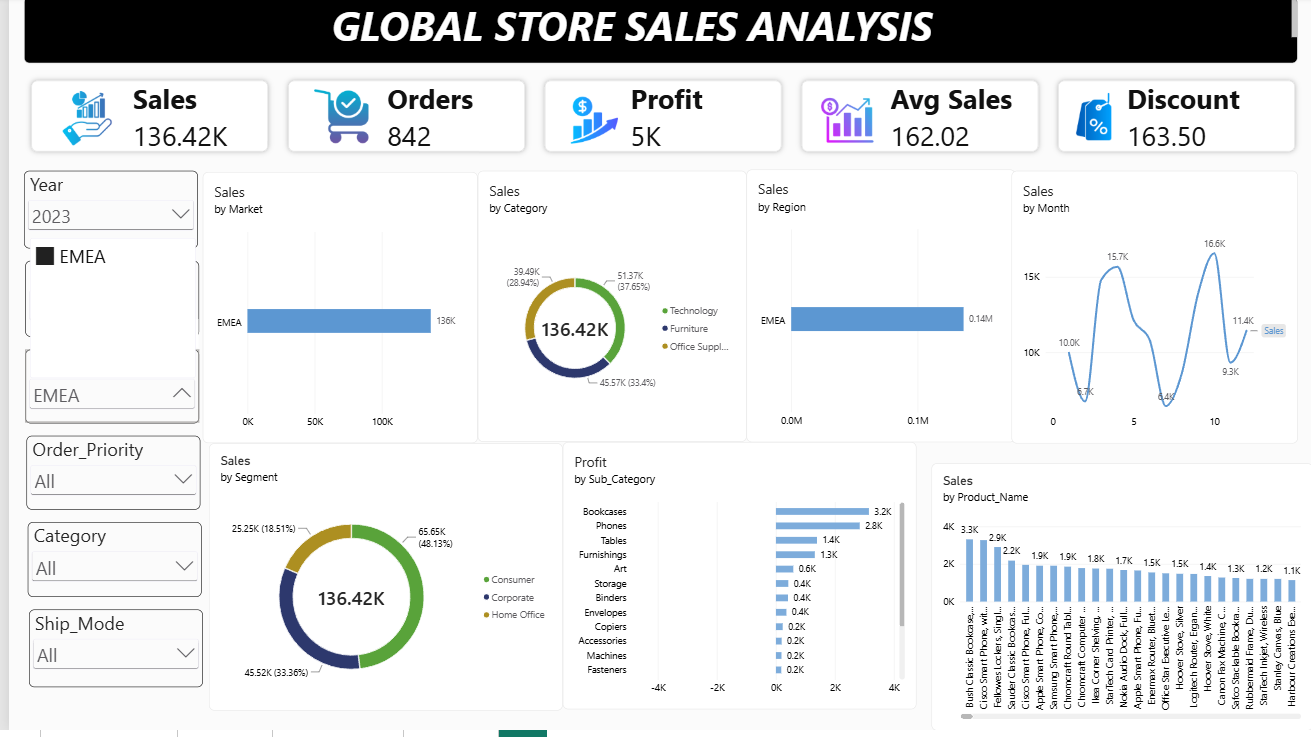

Layout of this report page (visuals, bound fields, positions):
{"tool":"powerbi","page":{"name":"Page 1","canvas":[1920,1080],"ordinal":4},"visuals":[{"type":"textbox","box":[22.1,0,1875.5,97.5],"z":0},{"type":"slicer","fields":{"Values":["calender.month end date.Variation.Date Hierarchy.Year"]},"box":[22.1,255.8,255.8,114.1],"z":5000},{"type":"slicer","fields":{"Values":["gss_cci.Market"]},"box":[23.9,388.3,255.8,112.3],"z":6000},{"type":"slicer","fields":{"Values":["Orders.Ship_Mode"]},"box":[29.4,901.8,255.8,114.1],"z":7000},{"type":"slicer","fields":{"Values":["gss_cci.Category"]},"box":[27.6,773,255.8,110.4],"z":8000},{"type":"slicer","fields":{"Values":["gss_cci.Order_Priority"]},"box":[25.8,646,255.8,108.6],"z":9000},{"type":"slicer","fields":{"Values":["gss_cci.Region"]},"box":[23.9,519,255.8,108.6],"z":10000},{"type":"cardVisual","fields":{"Data":["MEASURE#.TOTAL SALES","MEASURE#.TOTAL ORDERS","MEASURE#.TOTAL PROFIT","MEASURE#.AVERAGE SALES","MEASURE#.TOTAL DISCOUNT"]},"box":[22.1,112.3,1886.5,127],"z":11000},{"type":"clusteredBarChart","fields":{"Category":["gss_cci.Market"],"Y":["MEASURE#.TOTAL SALES"]},"box":[285.7,257.5,404.9,399.4],"z":21001},{"type":"donutChart","fields":{"Category":["gss_cci.Category"],"Y":["MEASURE#.TOTAL SALES"]},"box":[690.2,255.8,395.7,399.4],"z":21003},{"type":"clusteredBarChart","fields":{"Category":["gss_cci.Region"],"Y":["MEASURE#.TOTAL SALES"]},"box":[1085.9,255.8,395.7,401.2],"z":21006},{"type":"lineChart","fields":{"Category":["calender.FY MONTH"],"Y":["MEASURE#.TOTAL SALES"]},"box":[1476.1,255.8,421.5,401.2],"z":21007},{"type":"clusteredBarChart","fields":{"Category":["gss_cci.Sub_Category"],"Y":["Sum(gss_cci.Profit)"]},"box":[815.3,655.2,520.9,393.9],"z":21008},{"type":"donutChart","fields":{"Category":["gss_cci.Segment"],"Y":["MEASURE#.TOTAL SALES"]},"box":[294.3,657.9,520.9,393.9],"z":21009},{"type":"clusteredColumnChart","fields":{"Category":["gss_cci.Product_Name"],"Y":["Sum(gss_cci.Sales)"]},"box":[1336.2,657.1,561.4,393.9],"z":21010}]}

Visuals, with their boxes in screenshot pixels (x1, y1, x2, y2), scaled from the page's 1920x1080 canvas onto the 1311x737 screenshot:
textbox: [x1=15, y1=0, x2=1296, y2=67]
slicer - calender.month end date.Variation.Date Hierarchy.Year: [x1=15, y1=175, x2=190, y2=252]
slicer - gss_cci.Market: [x1=16, y1=265, x2=191, y2=342]
slicer - Orders.Ship_Mode: [x1=20, y1=615, x2=195, y2=693]
slicer - gss_cci.Category: [x1=19, y1=528, x2=194, y2=603]
slicer - gss_cci.Order_Priority: [x1=18, y1=441, x2=192, y2=515]
slicer - gss_cci.Region: [x1=16, y1=354, x2=191, y2=428]
cardVisual - MEASURE#.TOTAL SALES x MEASURE#.TOTAL ORDERS: [x1=15, y1=77, x2=1303, y2=163]
clusteredBarChart - gss_cci.Market x MEASURE#.TOTAL SALES: [x1=195, y1=176, x2=472, y2=448]
donutChart - gss_cci.Category x MEASURE#.TOTAL SALES: [x1=471, y1=175, x2=741, y2=447]
clusteredBarChart - gss_cci.Region x MEASURE#.TOTAL SALES: [x1=741, y1=175, x2=1012, y2=448]
lineChart - calender.FY MONTH x MEASURE#.TOTAL SALES: [x1=1008, y1=175, x2=1296, y2=448]
clusteredBarChart - gss_cci.Sub_Category x Sum(gss_cci.Profit): [x1=557, y1=447, x2=912, y2=716]
donutChart - gss_cci.Segment x MEASURE#.TOTAL SALES: [x1=201, y1=449, x2=557, y2=718]
clusteredColumnChart - gss_cci.Product_Name x Sum(gss_cci.Sales): [x1=912, y1=448, x2=1296, y2=717]
